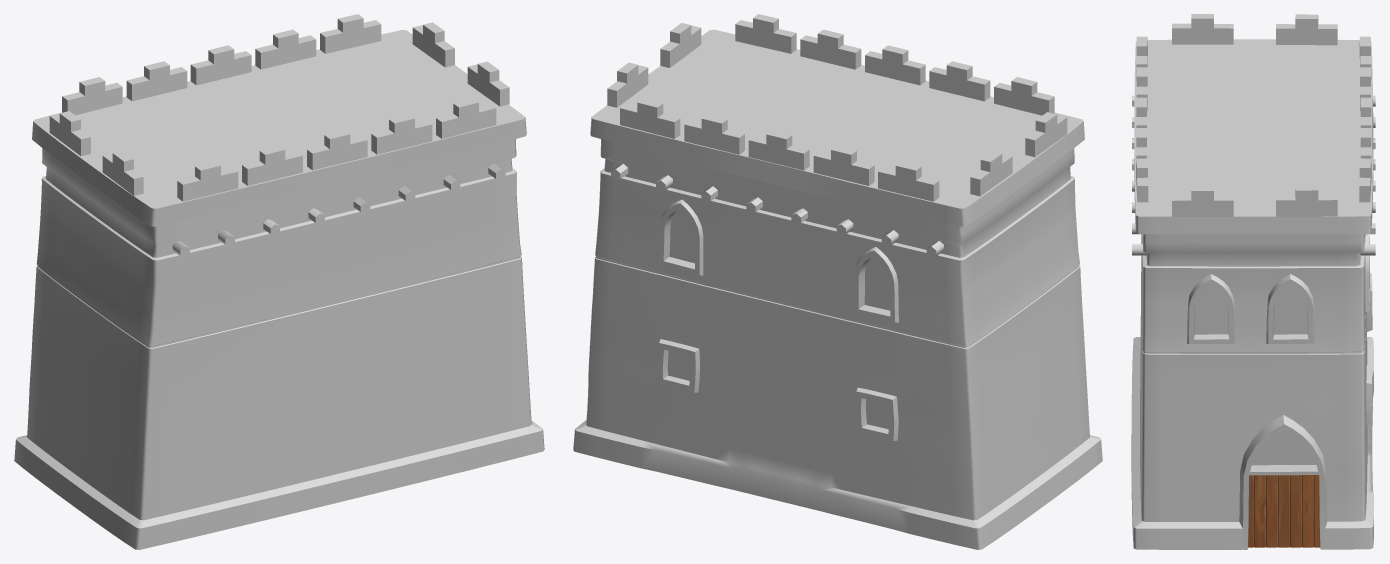
The model's file is Najdi_Garrison_B01.fbx.
3 renders of one model, left to right at view 1: azimuth 30°, elevation 25°; view 2: azimuth 150°, elevation 25°; view 3: azimuth 270°, elevation 25°, orthographic. The views are drawn at different scales.
Visible parts, largest first — view 1: Najdi_Garrison_B01; view 2: Najdi_Garrison_B01; view 3: Najdi_Garrison_B01.
Part boxes in pixels (box(x1,y1,x2,y2)): Najdi_Garrison_B01: box(14, 14, 544, 549); Najdi_Garrison_B01: box(573, 14, 1102, 549); Najdi_Garrison_B01: box(1131, 14, 1375, 549).
Size of the model in its own units: 3196 by 1698 by 2691.
